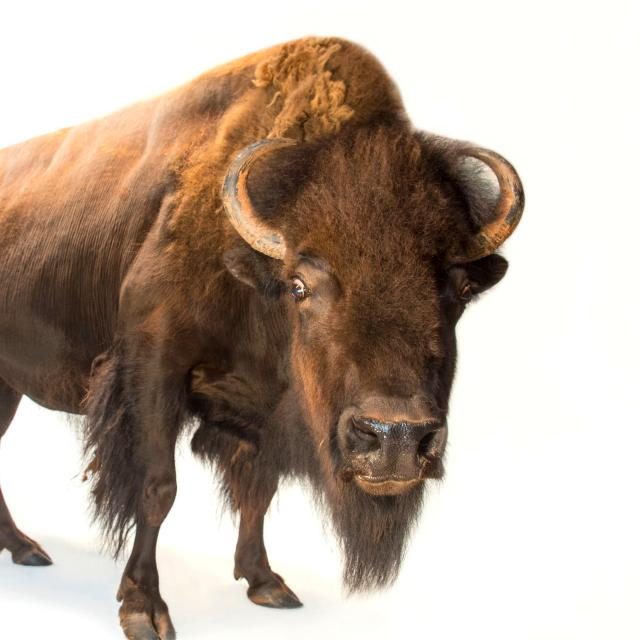bison: (0, 37, 524, 640)
